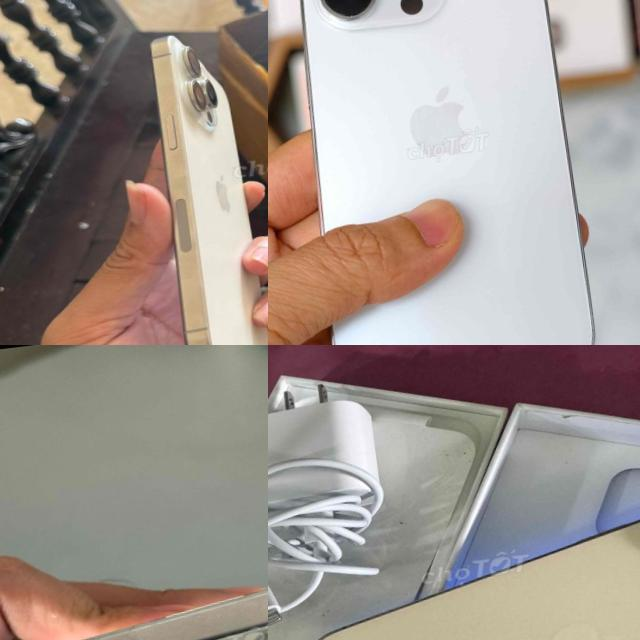gen_14: (276, 0, 609, 345), (286, 479, 640, 640)
gen_15: (136, 11, 268, 345), (0, 553, 268, 640)
